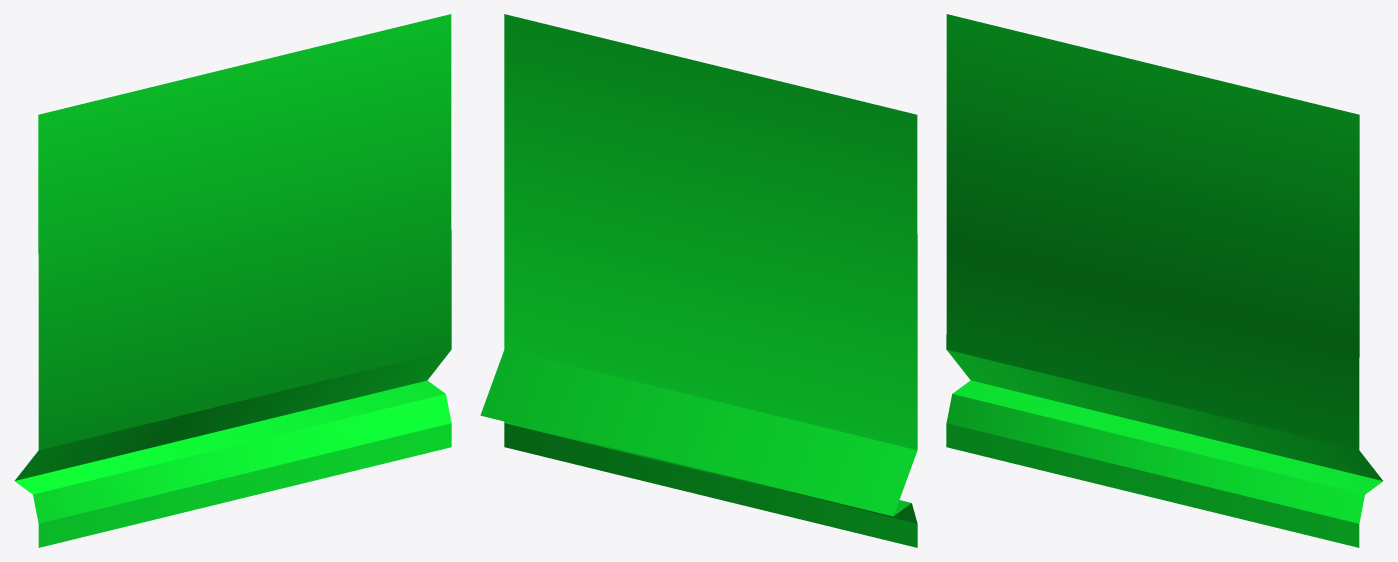
Rendered from 3x3m_straightwall.FBX.
3 views of the same model, side by side, from view 1: azimuth 30°, elevation 25°; view 2: azimuth 150°, elevation 25°; view 3: azimuth 330°, elevation 25° (orthographic).
Parts seen in each view (by area): view 1: 3x3m_straight; view 2: 3x3m_straight; view 3: 3x3m_straight.
Boxes of the visible parts, <box> form: 3x3m_straight: <box>14,14,451,547</box>; 3x3m_straight: <box>480,14,917,547</box>; 3x3m_straight: <box>946,14,1382,547</box>.
Bounding box in the file's own units: 300 × 300 × 30.42.
